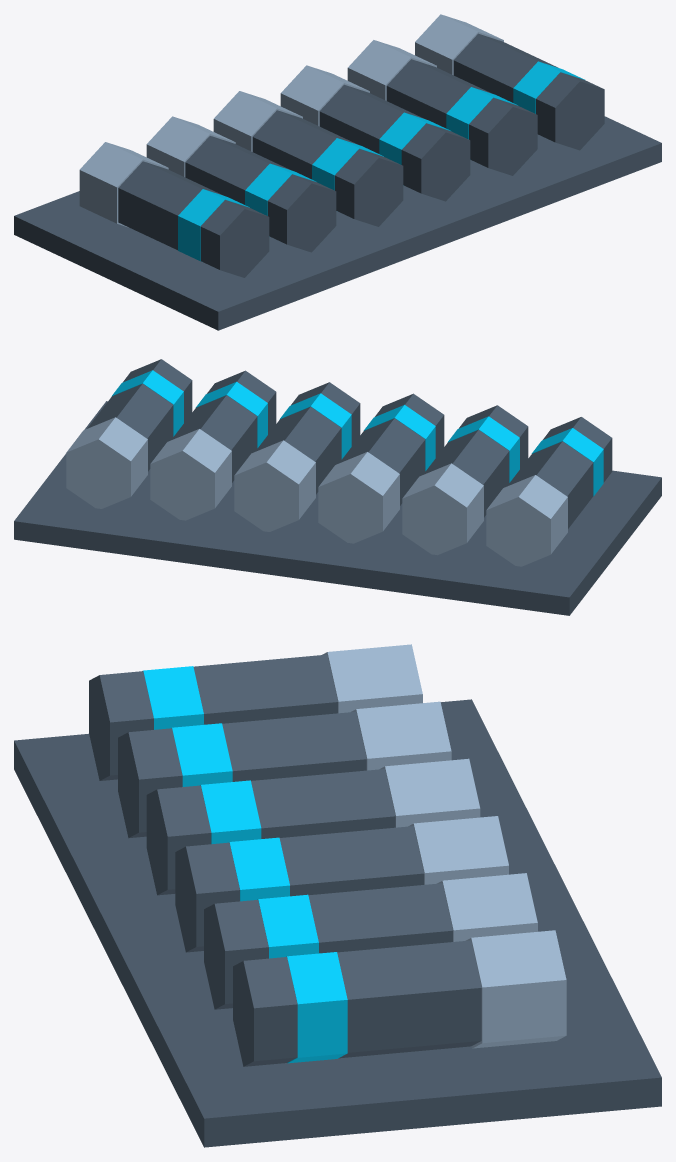
The model's file is ce_ammo_shotgun_emp_b.obj.
3 views of the same model, one above another, from view 1: azimuth 30°, elevation 25°; view 2: azimuth 150°, elevation 25°; view 3: azimuth 270°, elevation 25° (orthographic). The views are drawn at different scales.
Visible parts, largest first — view 1: ce_ammo_shotgun_emp_b_0, ce_ammo_shotgun_emp_b_2, ce_ammo_shotgun_emp_b_4, ce_ammo_shotgun_emp_b_16, ce_ammo_shotgun_emp_b_12, ce_ammo_shotgun_emp_b_8, ce_ammo_shotgun_emp_b_24, ce_ammo_shotgun_emp_b_20, ce_ammo_shotgun_emp_b_18, ce_ammo_shotgun_emp_b_14, ce_ammo_shotgun_emp_b_22, ce_ammo_shotgun_emp_b_6 (+13 smaller); view 2: ce_ammo_shotgun_emp_b_0, ce_ammo_shotgun_emp_b_5, ce_ammo_shotgun_emp_b_1, ce_ammo_shotgun_emp_b_13, ce_ammo_shotgun_emp_b_17, ce_ammo_shotgun_emp_b_21, ce_ammo_shotgun_emp_b_9, ce_ammo_shotgun_emp_b_2, ce_ammo_shotgun_emp_b_18, ce_ammo_shotgun_emp_b_14, ce_ammo_shotgun_emp_b_6, ce_ammo_shotgun_emp_b_10 (+13 smaller); view 3: ce_ammo_shotgun_emp_b_0, ce_ammo_shotgun_emp_b_22, ce_ammo_shotgun_emp_b_21, ce_ammo_shotgun_emp_b_6, ce_ammo_shotgun_emp_b_14, ce_ammo_shotgun_emp_b_10, ce_ammo_shotgun_emp_b_18, ce_ammo_shotgun_emp_b_2, ce_ammo_shotgun_emp_b_24, ce_ammo_shotgun_emp_b_23, ce_ammo_shotgun_emp_b_5, ce_ammo_shotgun_emp_b_13 (+13 smaller).
Part boxes in pixels (left/top/right/bottom): ce_ammo_shotgun_emp_b_0: left=14, top=116, right=661, bottom=330; ce_ammo_shotgun_emp_b_2: left=118, top=161, right=223, bottom=250; ce_ammo_shotgun_emp_b_4: left=200, top=200, right=269, bottom=277; ce_ammo_shotgun_emp_b_16: left=401, top=123, right=470, bottom=201; ce_ammo_shotgun_emp_b_12: left=334, top=149, right=403, bottom=226; ce_ammo_shotgun_emp_b_8: left=267, top=174, right=336, bottom=252; ce_ammo_shotgun_emp_b_24: left=536, top=72, right=604, bottom=150; ce_ammo_shotgun_emp_b_20: left=469, top=98, right=537, bottom=175; ce_ammo_shotgun_emp_b_18: left=386, top=59, right=491, bottom=128; ce_ammo_shotgun_emp_b_14: left=319, top=84, right=424, bottom=153; ce_ammo_shotgun_emp_b_22: left=453, top=33, right=558, bottom=102; ce_ammo_shotgun_emp_b_6: left=185, top=136, right=289, bottom=204; ce_ammo_shotgun_emp_b_0: left=14, top=401, right=661, bottom=615; ce_ammo_shotgun_emp_b_5: left=402, top=463, right=483, bottom=555; ce_ammo_shotgun_emp_b_1: left=486, top=475, right=567, bottom=566; ce_ammo_shotgun_emp_b_13: left=234, top=440, right=315, bottom=531; ce_ammo_shotgun_emp_b_17: left=150, top=429, right=231, bottom=520; ce_ammo_shotgun_emp_b_21: left=66, top=417, right=147, bottom=508; ce_ammo_shotgun_emp_b_9: left=318, top=452, right=399, bottom=543; ce_ammo_shotgun_emp_b_2: left=507, top=441, right=593, bottom=528; ce_ammo_shotgun_emp_b_18: left=171, top=395, right=257, bottom=482; ce_ammo_shotgun_emp_b_14: left=255, top=406, right=341, bottom=494; ce_ammo_shotgun_emp_b_6: left=423, top=430, right=509, bottom=517; ce_ammo_shotgun_emp_b_10: left=339, top=418, right=425, bottom=505; ce_ammo_shotgun_emp_b_0: left=14, top=699, right=661, bottom=1147; ce_ammo_shotgun_emp_b_22: left=337, top=940, right=481, bottom=1058; ce_ammo_shotgun_emp_b_21: left=465, top=930, right=566, bottom=1048; ce_ammo_shotgun_emp_b_6: left=222, top=711, right=366, bottom=781; ce_ammo_shotgun_emp_b_14: left=279, top=826, right=424, bottom=896; ce_ammo_shotgun_emp_b_10: left=251, top=769, right=395, bottom=838; ce_ammo_shotgun_emp_b_18: left=308, top=883, right=452, bottom=953; ce_ammo_shotgun_emp_b_2: left=193, top=654, right=337, bottom=724; ce_ammo_shotgun_emp_b_24: left=233, top=957, right=297, bottom=1066; ce_ammo_shotgun_emp_b_23: left=286, top=952, right=347, bottom=1063; ce_ammo_shotgun_emp_b_5: left=351, top=701, right=451, bottom=770; ce_ammo_shotgun_emp_b_13: left=408, top=816, right=508, bottom=884.
Bounding box in the file's own units: 0.9326 × 0.1427 × 0.6092.
